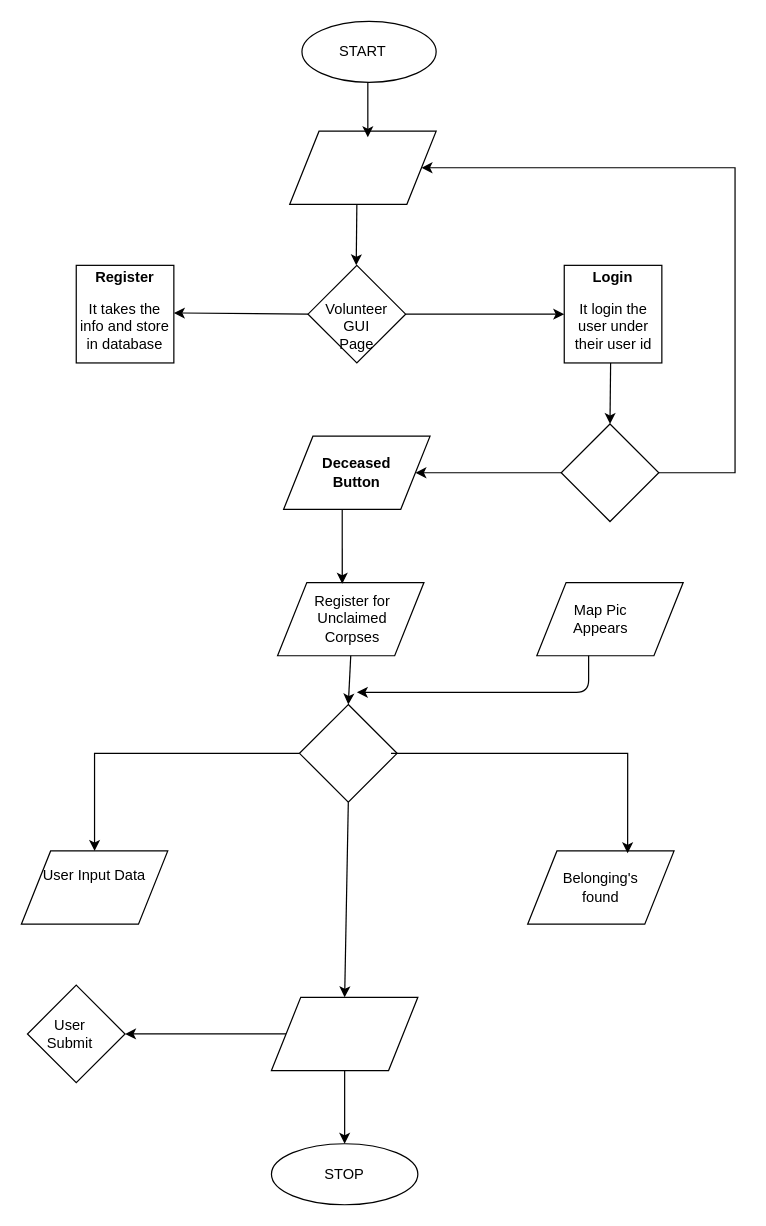
The diagram is 766 pixels wide and 1226 high, and some of its shapes have lost their labels. The shapes that lost their labels are listed below. From the top down, each one's box as (x1, y1, x2, y2) in pixels, then its label:
(289, 130, 436, 204): Display GUI Home page
(560, 423, 659, 522): If Login Count is
(298, 703, 397, 802): Deceased Body Data
(270, 996, 418, 1071): User Describe Belongings
